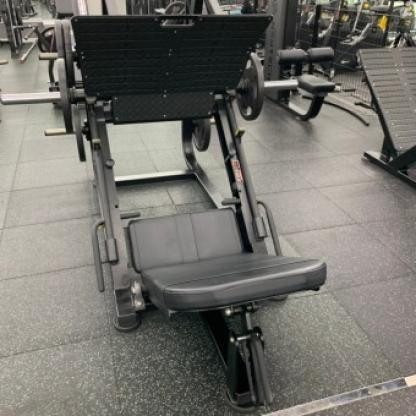leg press: (0, 0, 345, 416)
